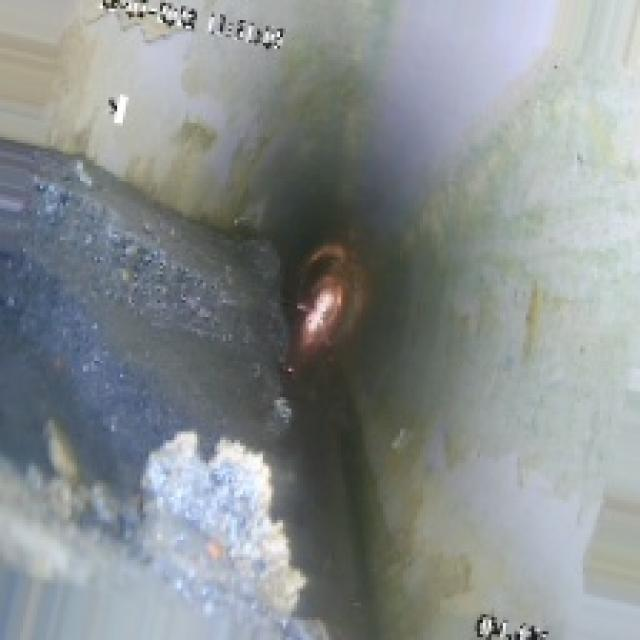sluge accumulation: (17, 160, 346, 617)
